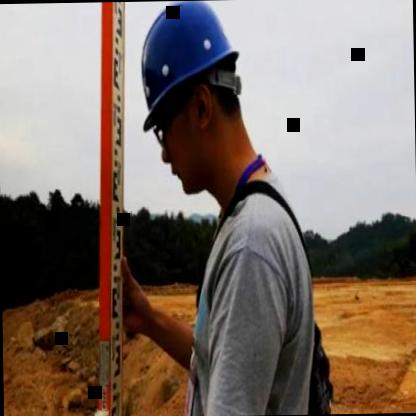helmet: (126, 0, 257, 209)
